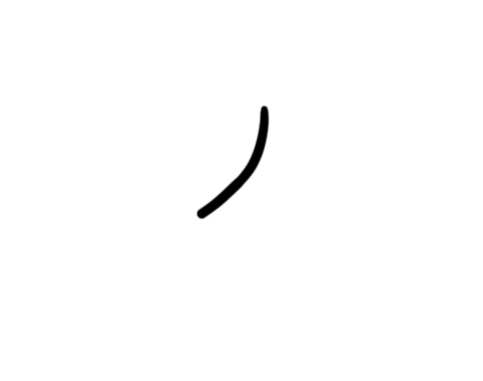no: (182, 98, 273, 231)
